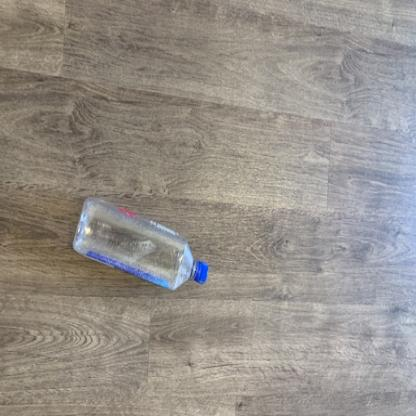trash: (71, 196, 210, 293)
